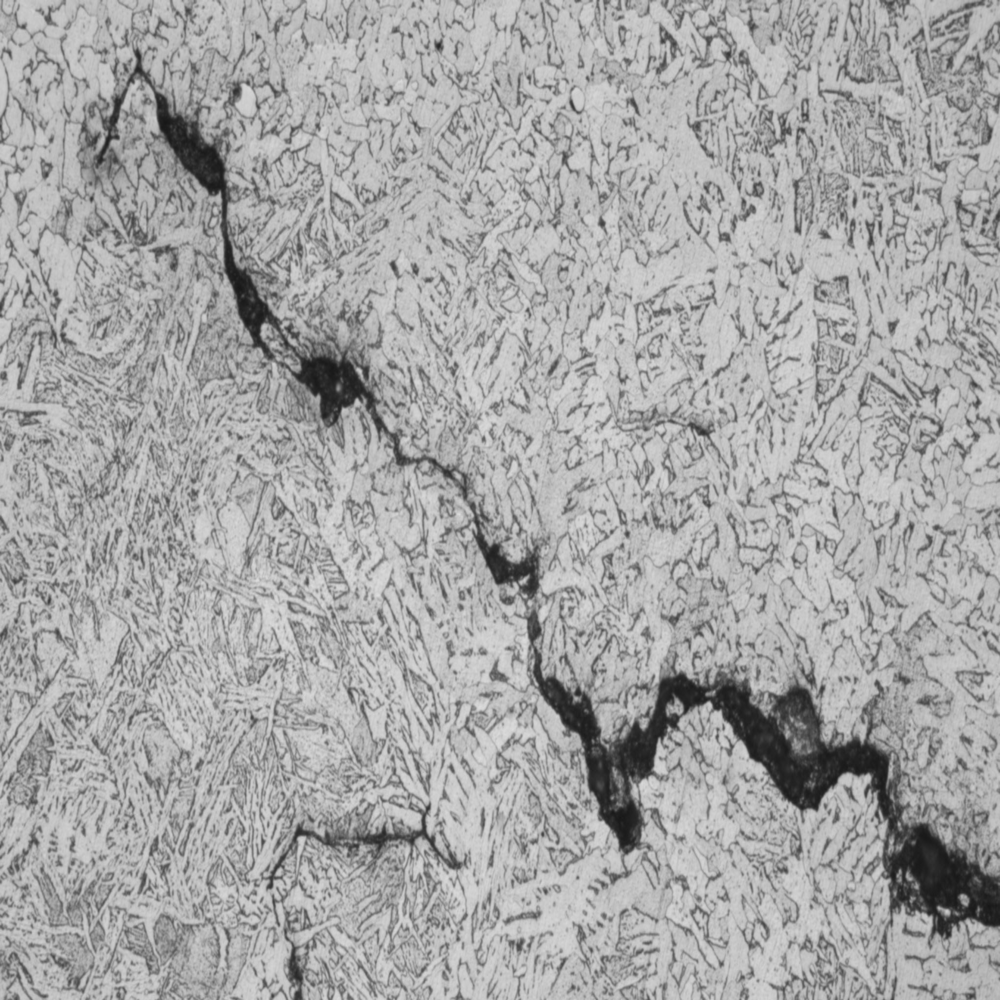crack: (73, 44, 999, 945), (229, 807, 479, 980)
